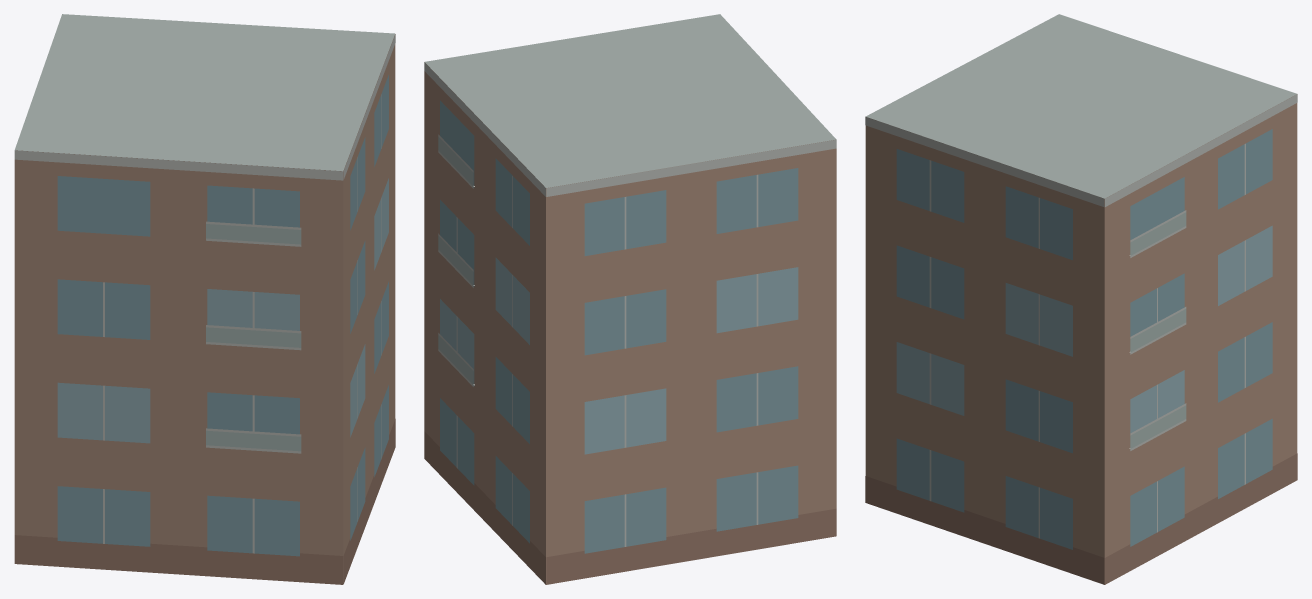
The model's file is survey-upis-32688516.glb.
3 views of the same model, side by side, from view 1: azimuth 30°, elevation 25°; view 2: azimuth 150°, elevation 25°; view 3: azimuth 270°, elevation 25° (orthographic). The views are drawn at different scales.
Parts seen in each view (by area): view 1: survey-upis-32688516.tmp; view 2: survey-upis-32688516.tmp; view 3: survey-upis-32688516.tmp.
Boxes of the visible parts, x1,y1,x2,y2 form: survey-upis-32688516.tmp: (14,14,395,584); survey-upis-32688516.tmp: (424,14,836,584); survey-upis-32688516.tmp: (865,14,1297,584).
Size of the model in its own units: 11.03 by 10.75 by 10.91.
